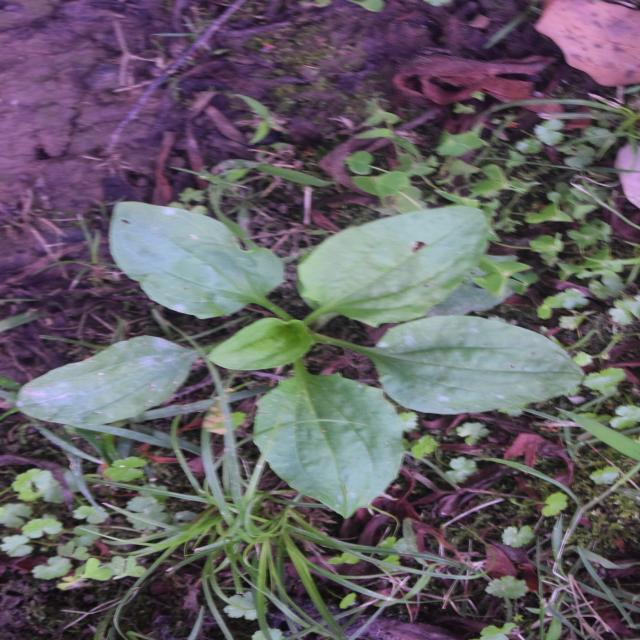plantain: (158, 67, 459, 551)
